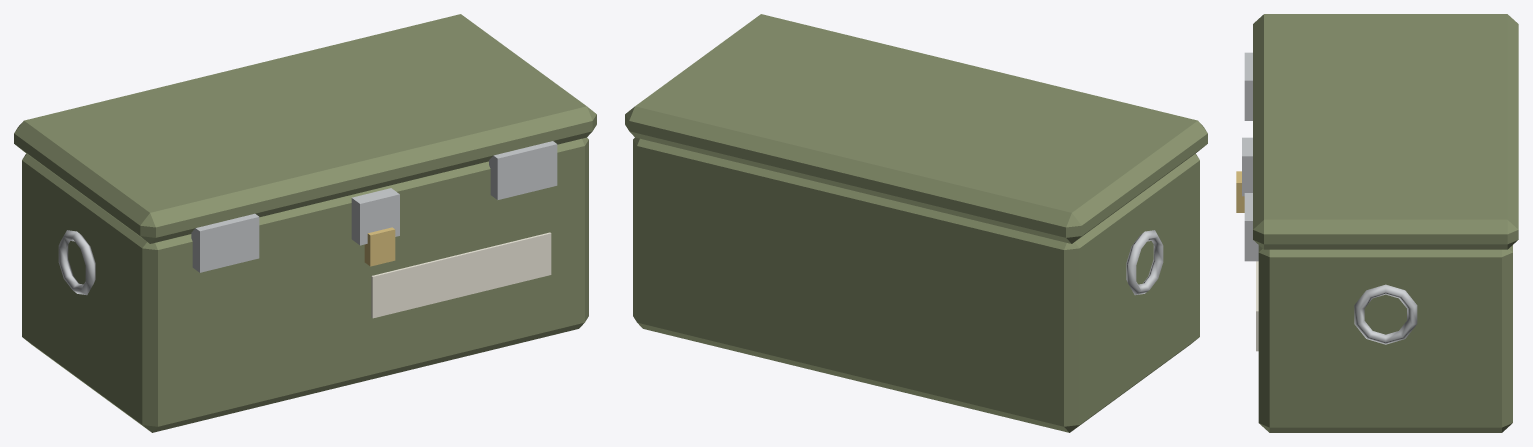
File: footlocker.glb
3 renders of one model, left to right at view 1: azimuth 30°, elevation 25°; view 2: azimuth 150°, elevation 25°; view 3: azimuth 270°, elevation 25°, orthographic. The views are drawn at different scales.
Parts seen in each view (by area): view 1: footlocker; view 2: footlocker; view 3: footlocker.
Part boxes in pixels (<box>): footlocker: <box>14,14,596,432</box>; footlocker: <box>625,14,1207,432</box>; footlocker: <box>1236,14,1518,432</box>.
Size of the model in its own units: 0.94 by 0.43 by 0.51.
